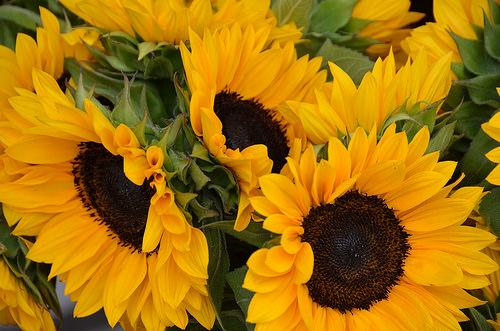sunflower: (2, 69, 215, 331), (249, 129, 500, 331), (178, 27, 331, 180)
